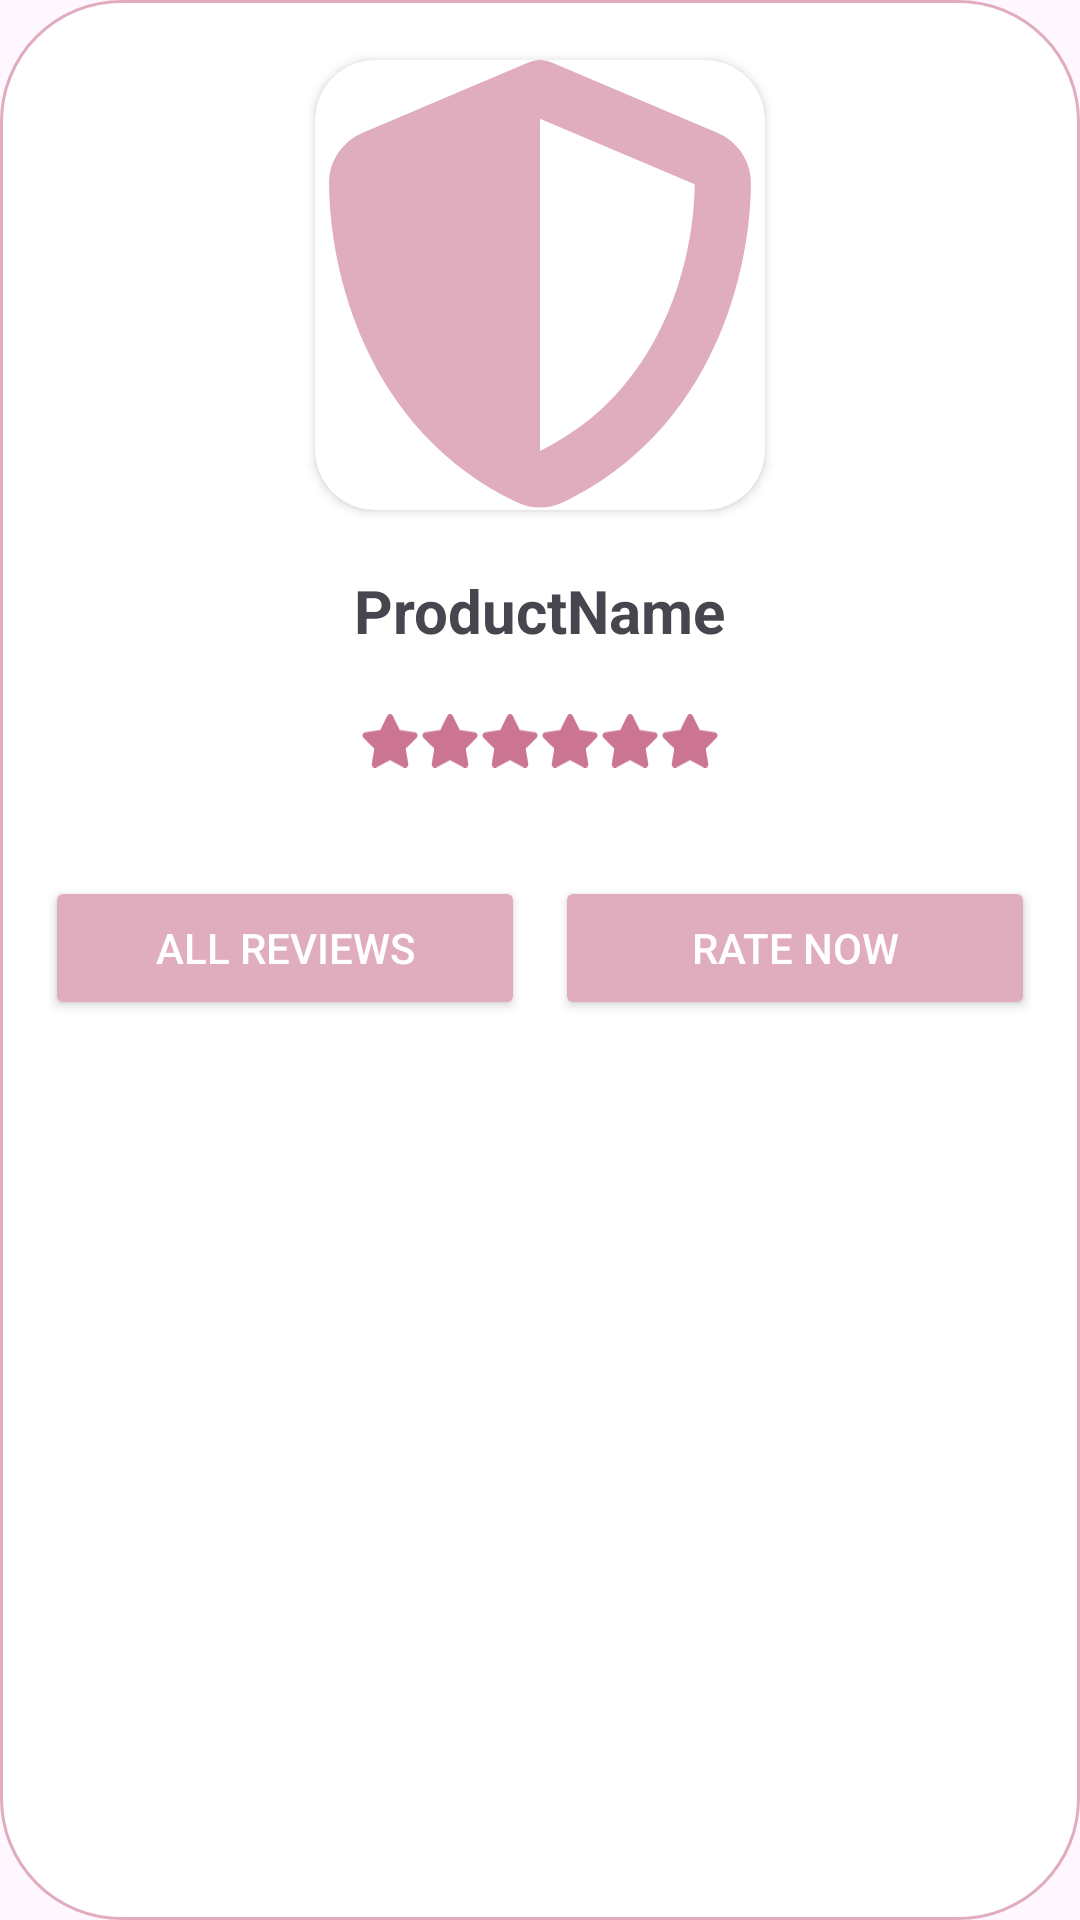

Named icons in this screenshot (1080*1920) and their centers, (x,y):
star: (390,741), (450,741), (510,741), (570,741), (630,741), (690,741)
